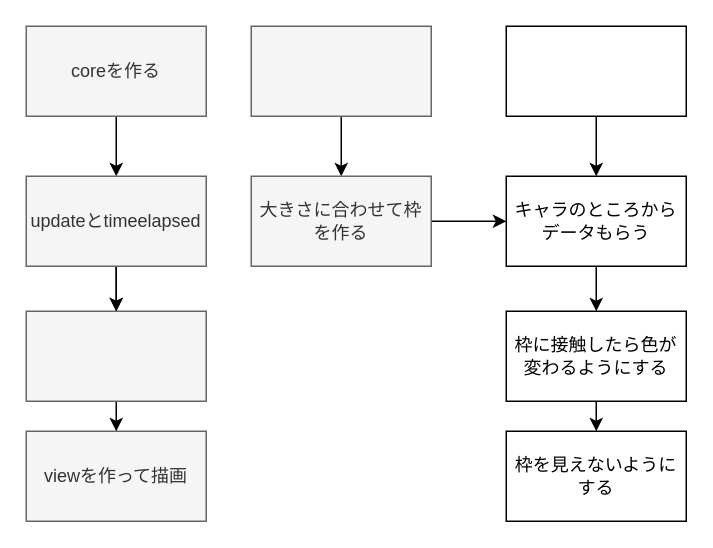
Image size: 713x548. Some labels were removed from this diagram. Each missing label, with the centre of its shape:
"coreの中でキャラの動きをキーボードに割り当てる" goes at (x=115, y=355).
"キャラのファイルを作る 大きさ等を決める" goes at (x=340, y=70).
"当たり判定のファイルを作る" goes at (x=595, y=70).
